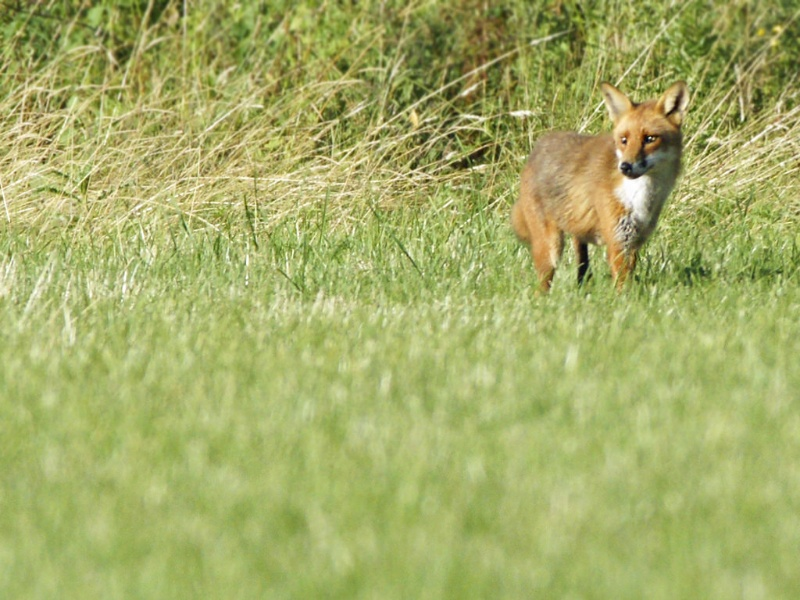fox: (515, 77, 697, 303)
